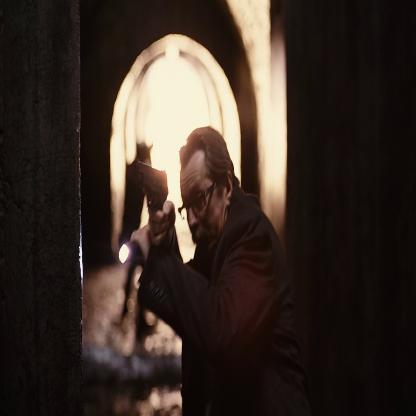gun: (134, 155, 180, 231)
